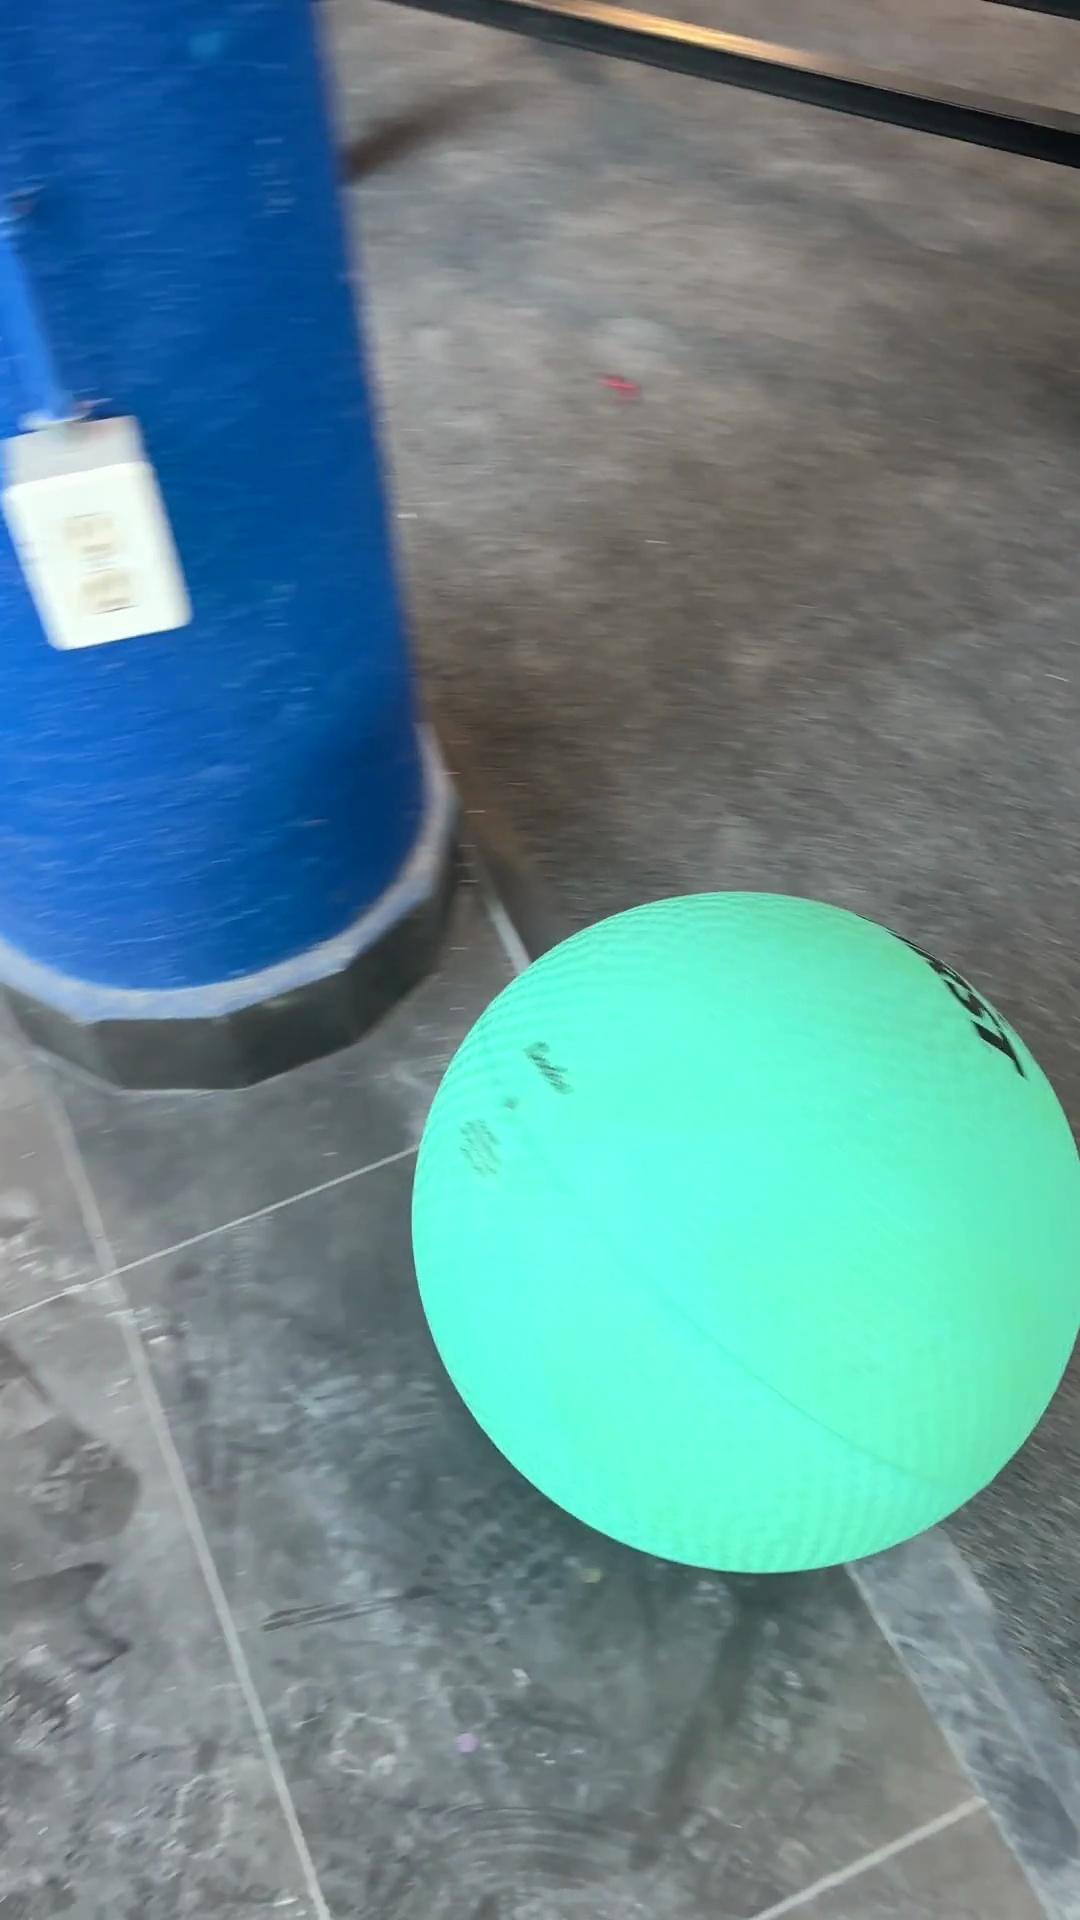ALGAE: (407, 885, 1077, 1576)
